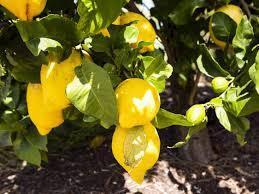lemon: (40, 48, 93, 112), (112, 122, 160, 184), (26, 66, 66, 136), (101, 12, 161, 54), (115, 78, 160, 128), (209, 5, 244, 48), (0, 0, 48, 21)
